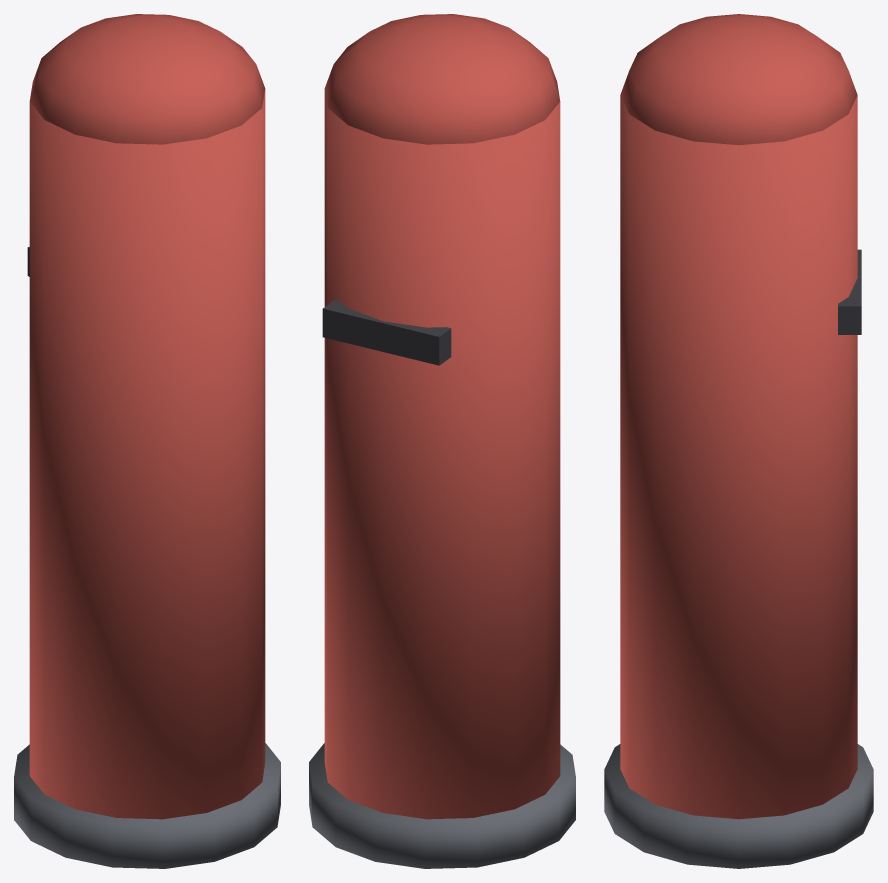
File: prop_post.glb
3 views of the same model, side by side, from view 1: azimuth 30°, elevation 25°; view 2: azimuth 150°, elevation 25°; view 3: azimuth 270°, elevation 25° (orthographic).
Visible parts, largest first — view 1: post; view 2: post; view 3: post.
Part boxes in pixels (box(x1,y1,x2,y2)): post: box(14, 14, 280, 868); post: box(309, 14, 575, 868); post: box(604, 14, 873, 868).
Bounding box in the file's own units: 0.68 × 2.18 × 0.68.
